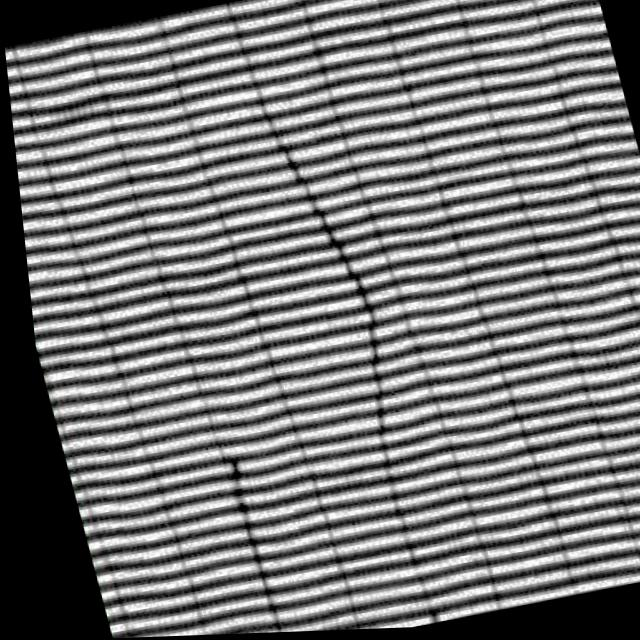Stitch: (233, 72, 414, 443)
